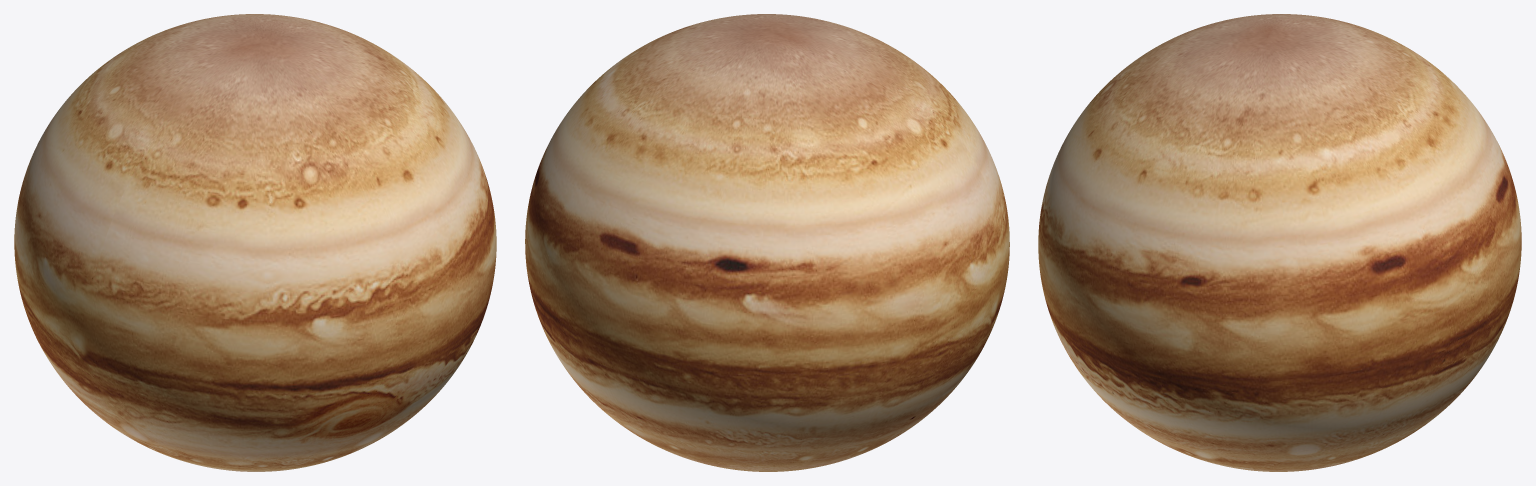
The model's file is 5_jupiter.gltf.
The picture shows the model from 3 angles, left to right: view 1: azimuth 30°, elevation 25°; view 2: azimuth 150°, elevation 25°; view 3: azimuth 270°, elevation 25°; orthographic projection.
Visible parts, largest first — view 1: Jupiter_globe; view 2: Jupiter_globe; view 3: Jupiter_globe.
Part boxes in pixels (x1,y1,x2,y2): Jupiter_globe: (14, 14, 496, 471); Jupiter_globe: (525, 14, 1009, 471); Jupiter_globe: (1038, 14, 1521, 471).
Size of the model in its own units: 143 by 134 by 143.
Materials: 1 (1 with a texture image).
